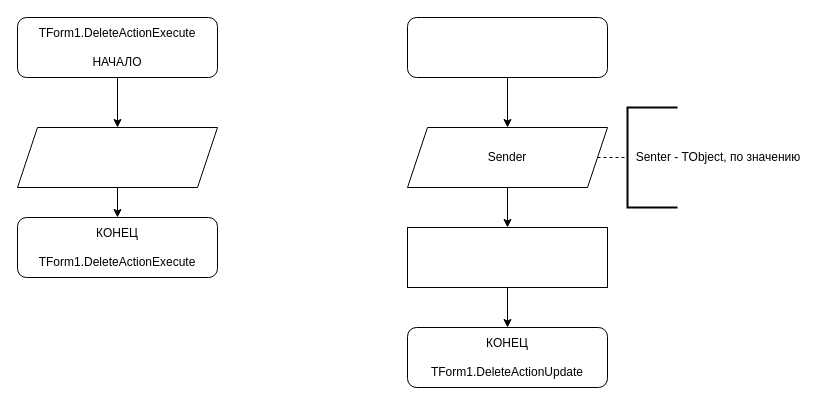
This 818x405 diagram has some shape labels left out. Each missing label, with the centre of its shape:
"Memo1.ClearSelection;" belongs at pixel 117 157.
"TAction(Sender).Enabled:= Memo1.SelLength > 0;" belongs at pixel 507 257.
"TForm1.DeleteActionUpdate НАЧАЛО" belongs at pixel 507 47.
